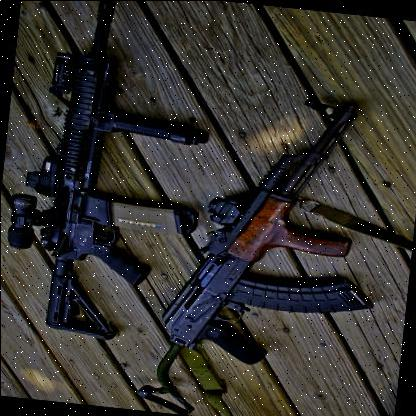rifle: (128, 88, 408, 416), (0, 0, 233, 352)
